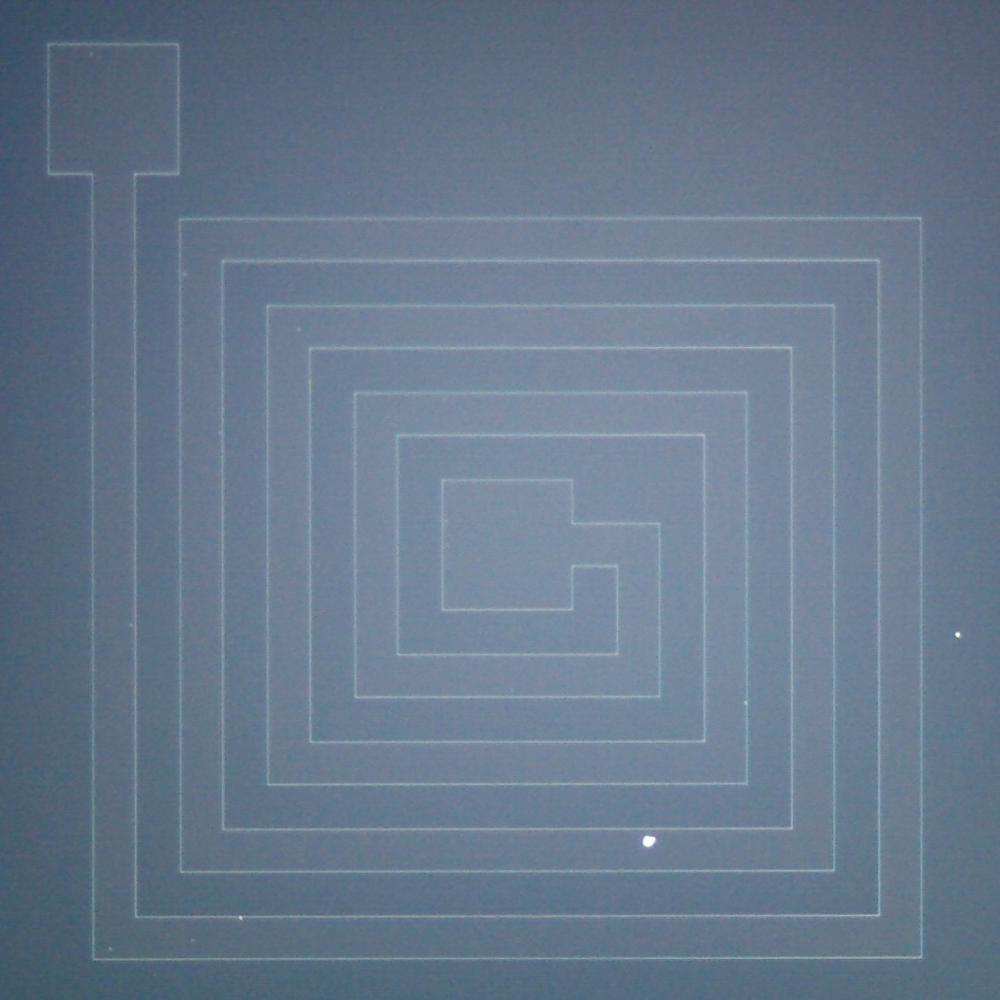dot: (642, 834, 656, 848), (955, 632, 961, 638)
